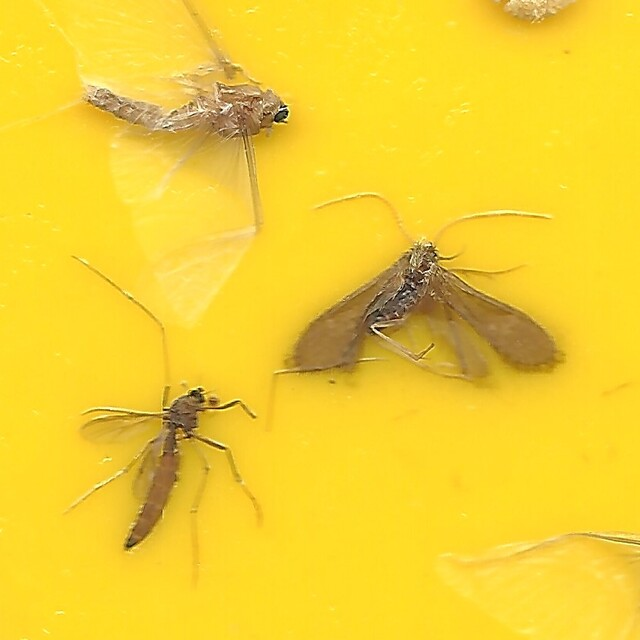Ephemeroptera: (77, 80, 287, 137)
Nematocera: (118, 385, 207, 560)
Trichoptera: (292, 239, 563, 388)
